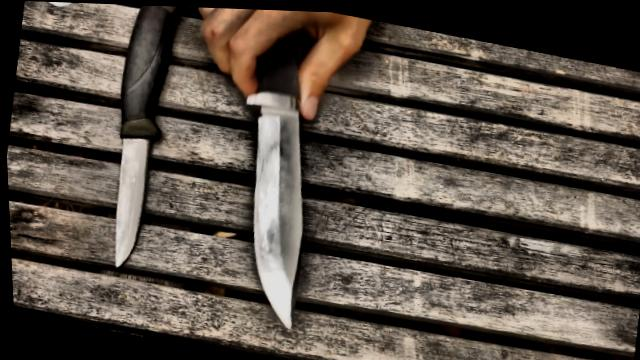knife: (181, 41, 354, 340), (75, 84, 175, 284)
